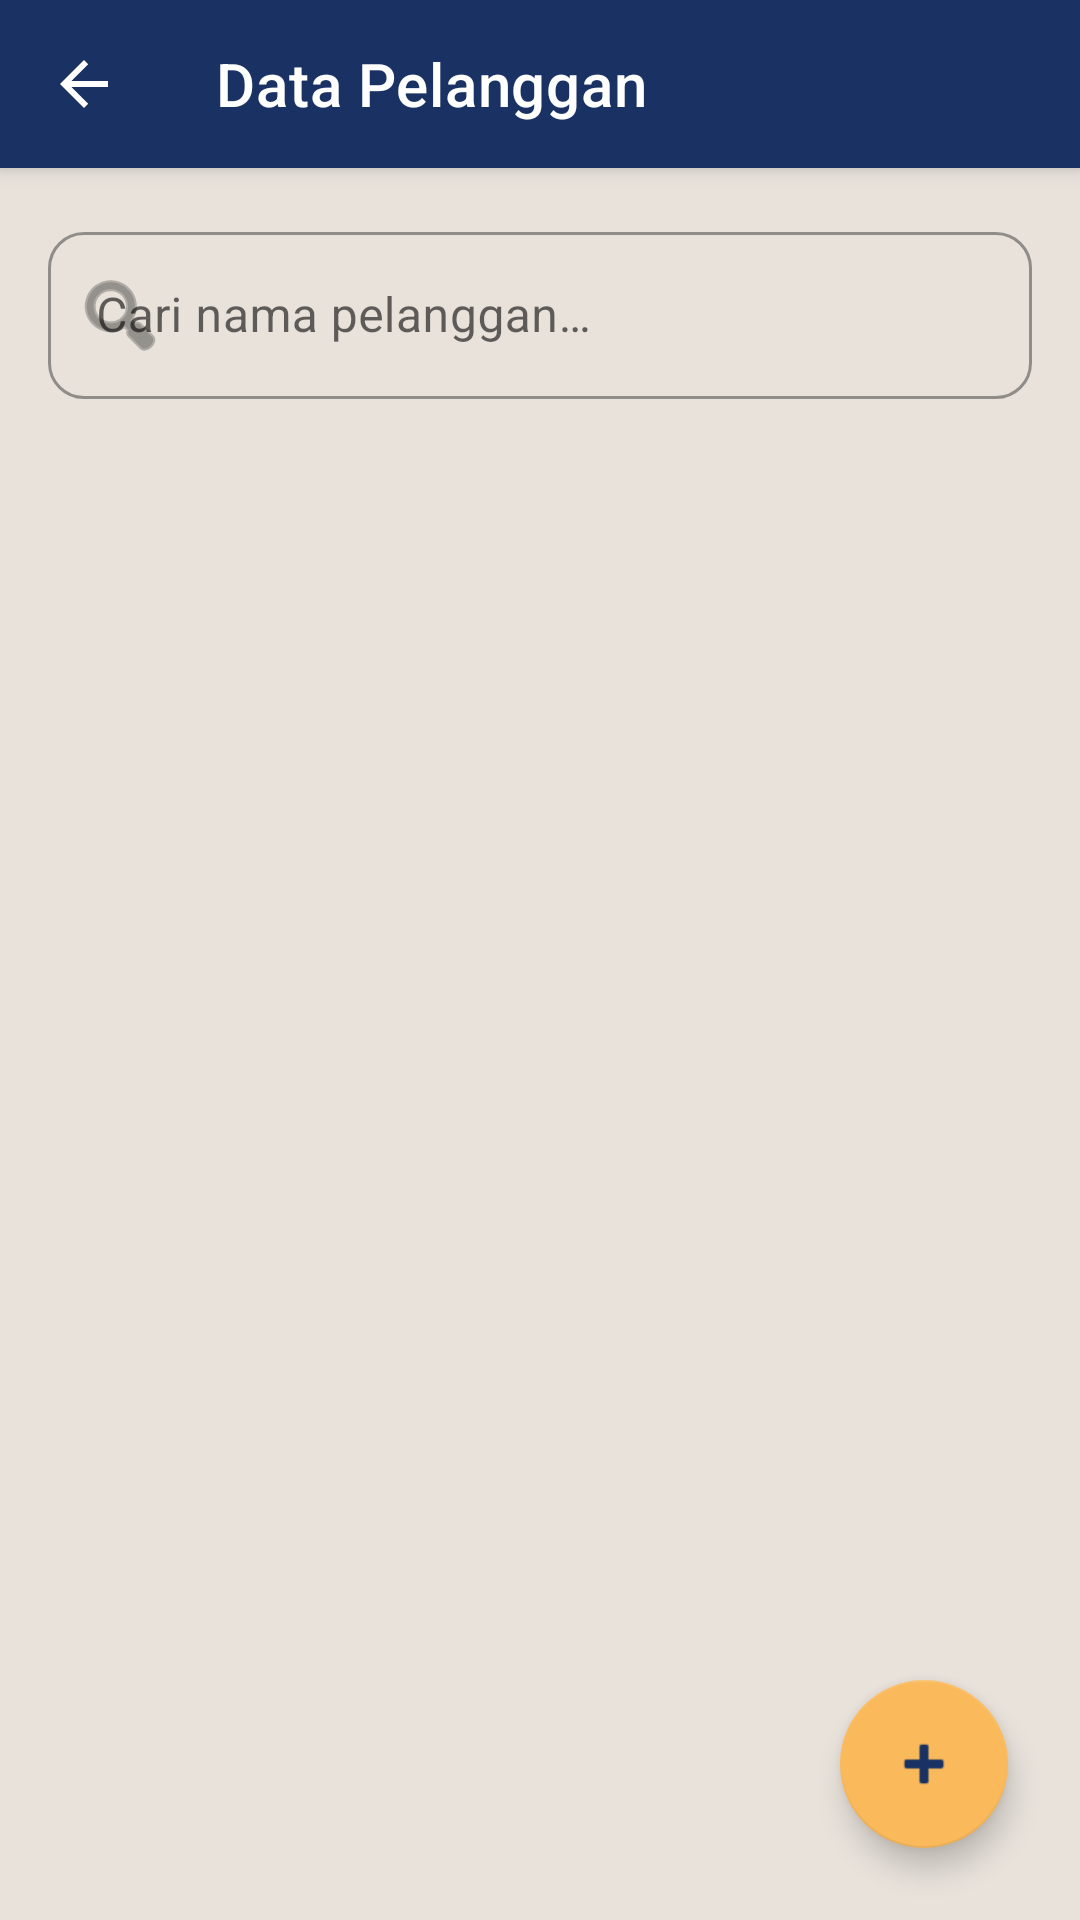

Icons on this 1080x1920 Android screen, each with the point to tap as (x,y):
Tombol untuk menambah pelanggan baru: (924,1764)
